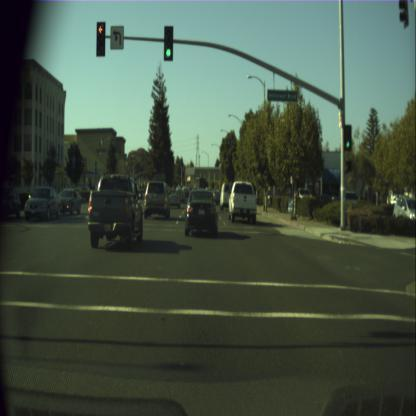Green: (164, 25, 173, 61), (344, 124, 352, 151)
RedLeft: (96, 22, 104, 57)
